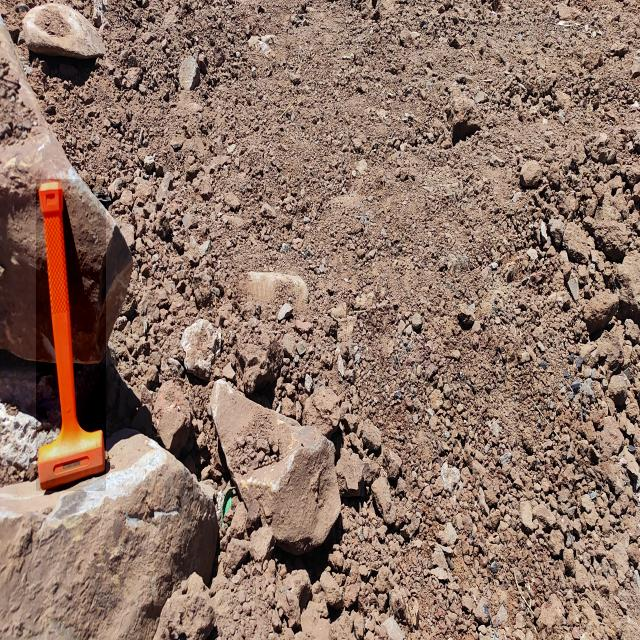Orange_hammer: (36, 179, 106, 491)
